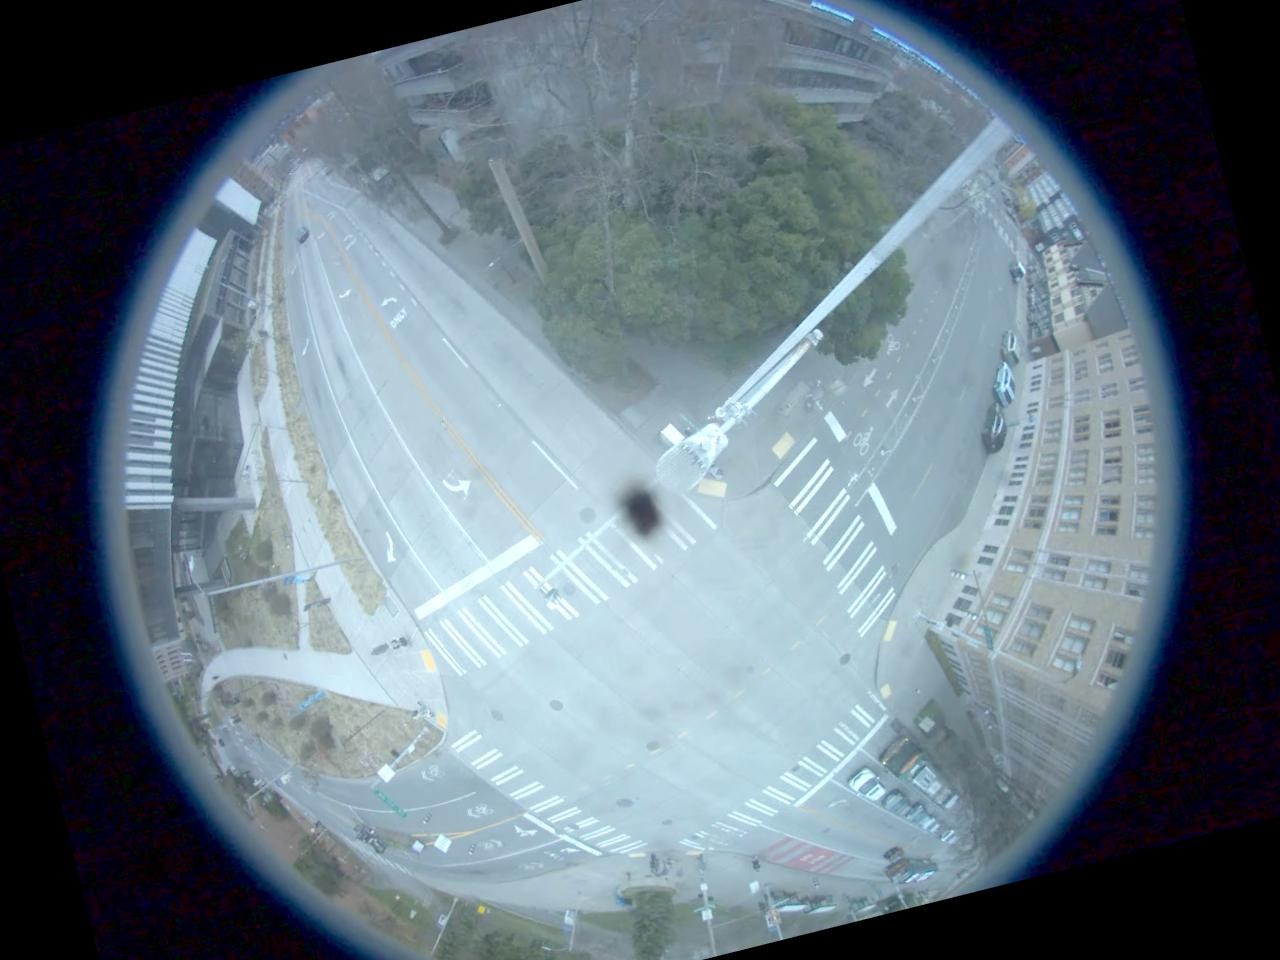bus: (876, 726, 960, 820), (883, 854, 938, 890)
car: (972, 397, 1012, 456), (987, 359, 1021, 407), (992, 326, 1024, 368), (850, 766, 880, 804), (881, 786, 911, 822), (906, 801, 930, 827), (920, 812, 944, 835), (882, 844, 908, 864)
person: (405, 694, 438, 724), (378, 632, 416, 656), (692, 846, 714, 877), (654, 857, 675, 885), (744, 851, 766, 876), (660, 847, 679, 871), (368, 641, 393, 659), (644, 848, 660, 876)
